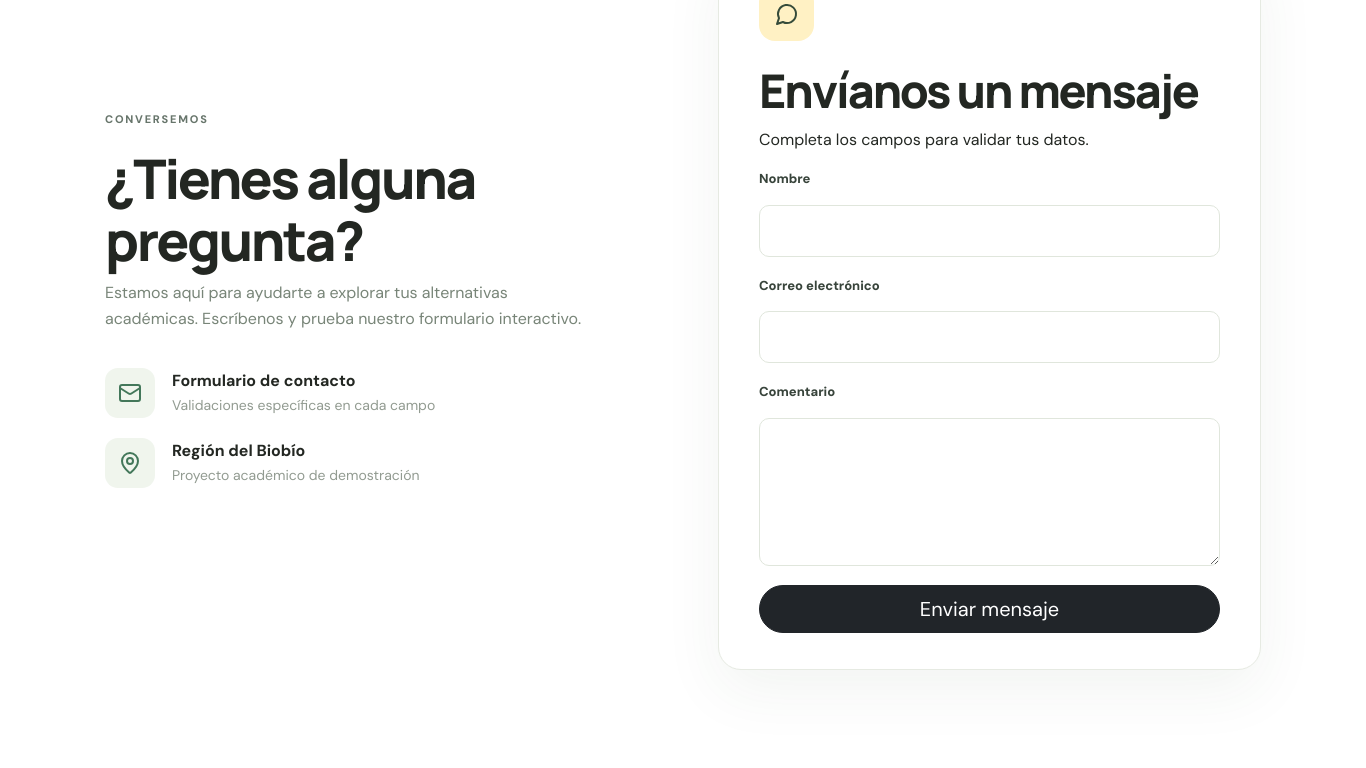
Test case: Formularios controlados › muestra error contextual al enviar Contacto vacío
(page scrolled)
Click the button "Enviar mensaje" at (990, 609), box x1=759 y1=585 x2=1220 y2=633
(page scrolled)
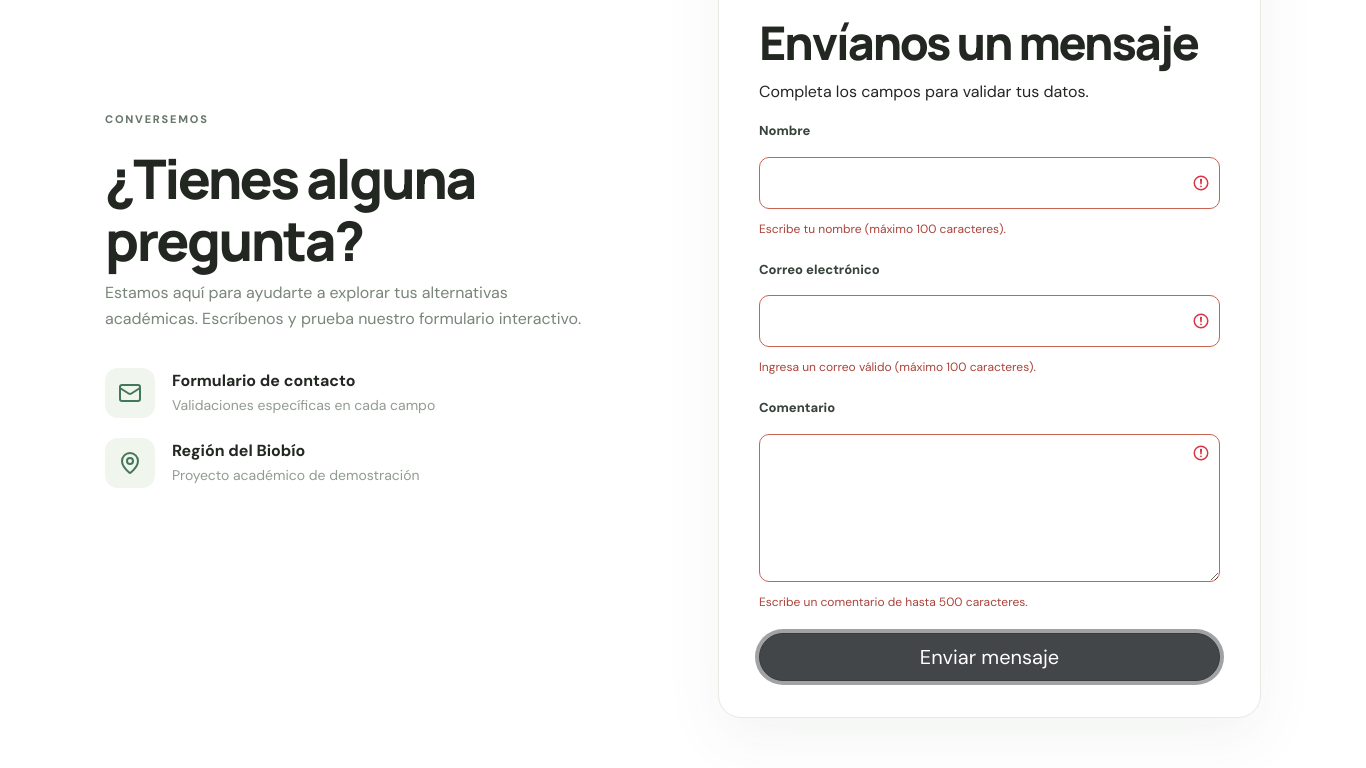
Result: the number of messages is 3 at x1=759 y1=221 x2=1006 y2=237; x1=759 y1=359 x2=1036 y2=375; x1=759 y1=594 x2=1028 y2=610
